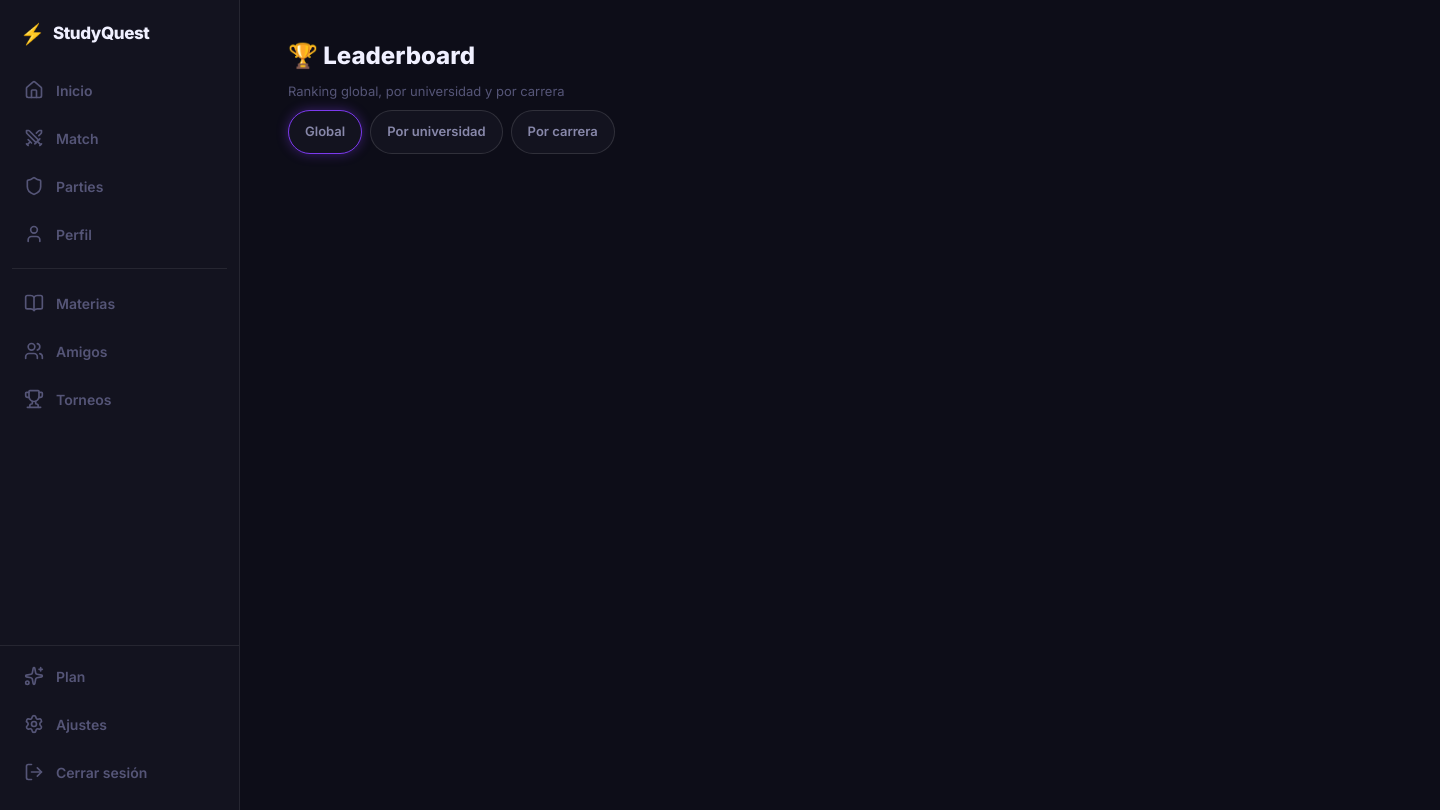
LeaderboardPage › switches to Por universidad and defaults the selector to the user own university
Click the tab "Por universidad".
click(436, 132)  # box [370, 110, 503, 154]
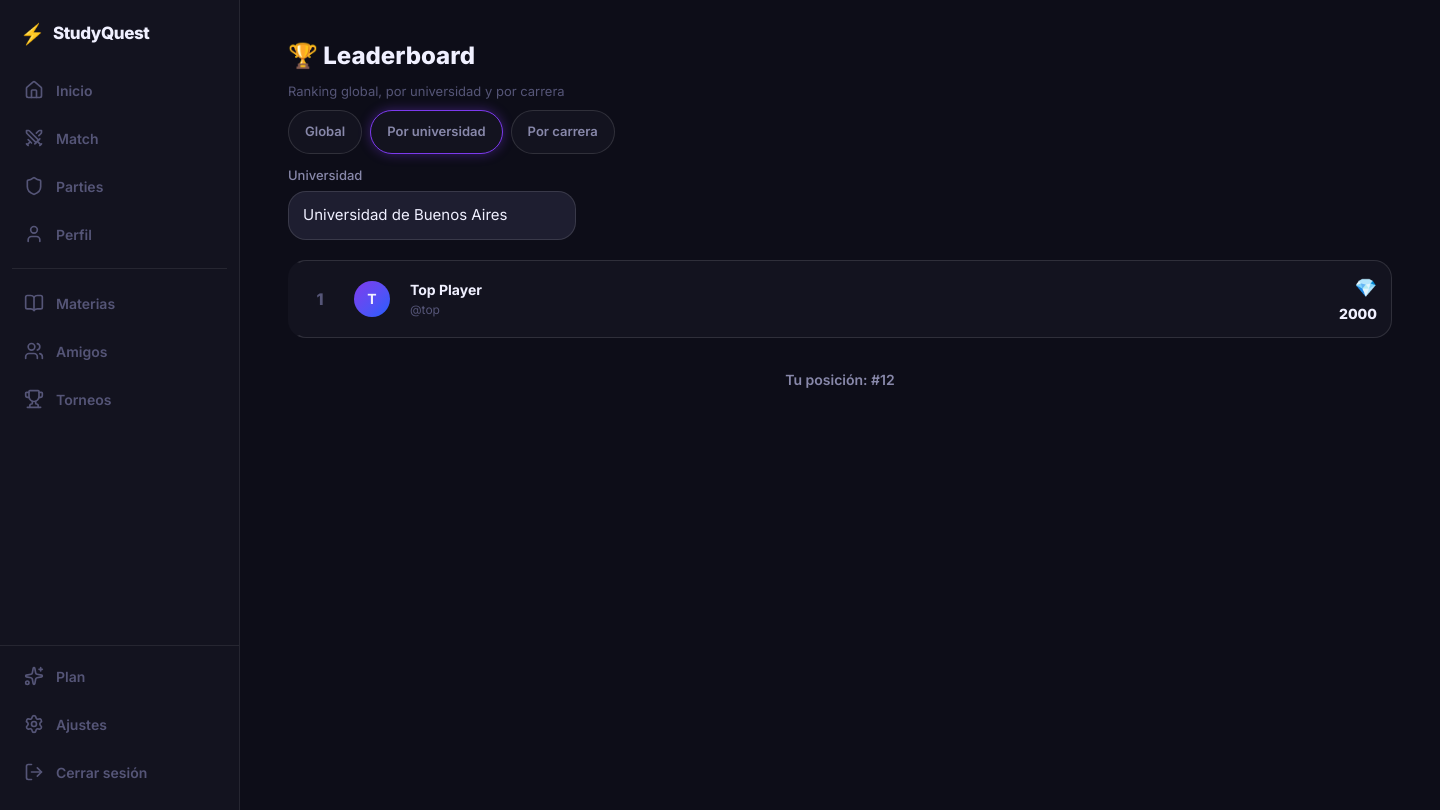
Now the dropdown labelled "Universidad" shows "Universidad de Buenos Aires", box [288, 191, 576, 240]
